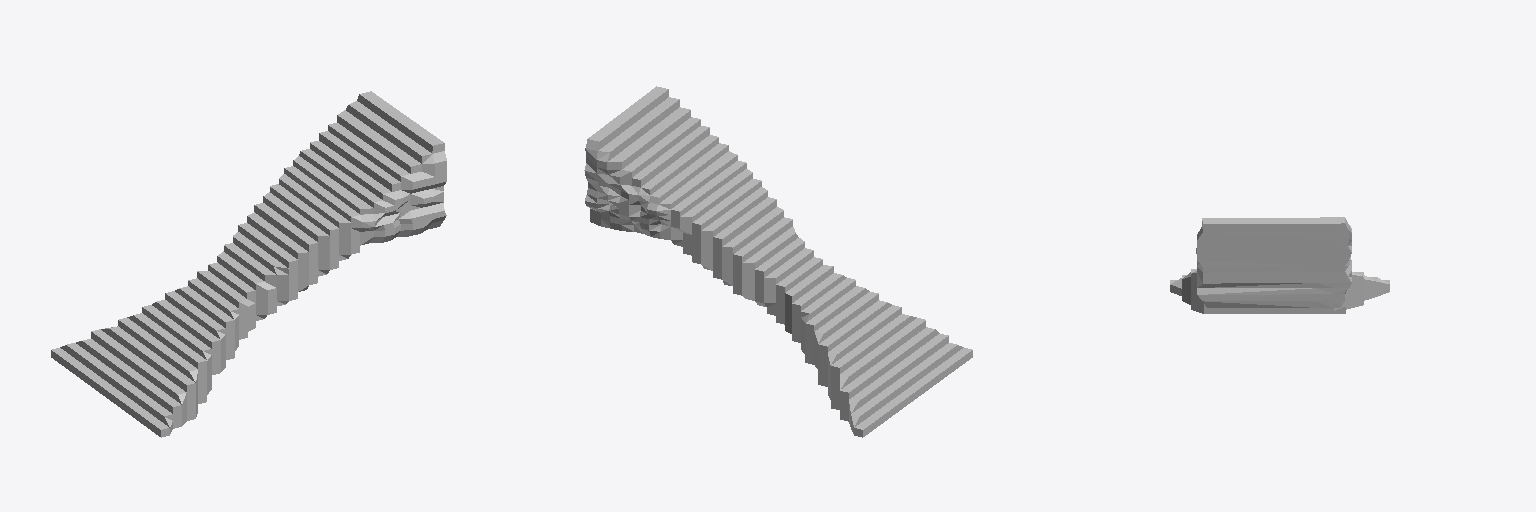
File: stairbase2.obj
3 renders of one model, left to right at view 1: azimuth 30°, elevation 25°; view 2: azimuth 150°, elevation 25°; view 3: azimuth 270°, elevation 25°, orthographic.
Parts seen in each view (by area): view 1: Cube_Cube.020_Cube_Cube.020_auv; view 2: Cube_Cube.020_Cube_Cube.020_auv; view 3: Cube_Cube.020_Cube_Cube.020_auv.
Part boxes in pixels (x1,y1,x2,y2): Cube_Cube.020_Cube_Cube.020_auv: (51, 91, 446, 437); Cube_Cube.020_Cube_Cube.020_auv: (584, 86, 972, 437); Cube_Cube.020_Cube_Cube.020_auv: (1170, 217, 1389, 313).
Size of the model in its own units: 0.884 by 0.5907 by 0.5603.